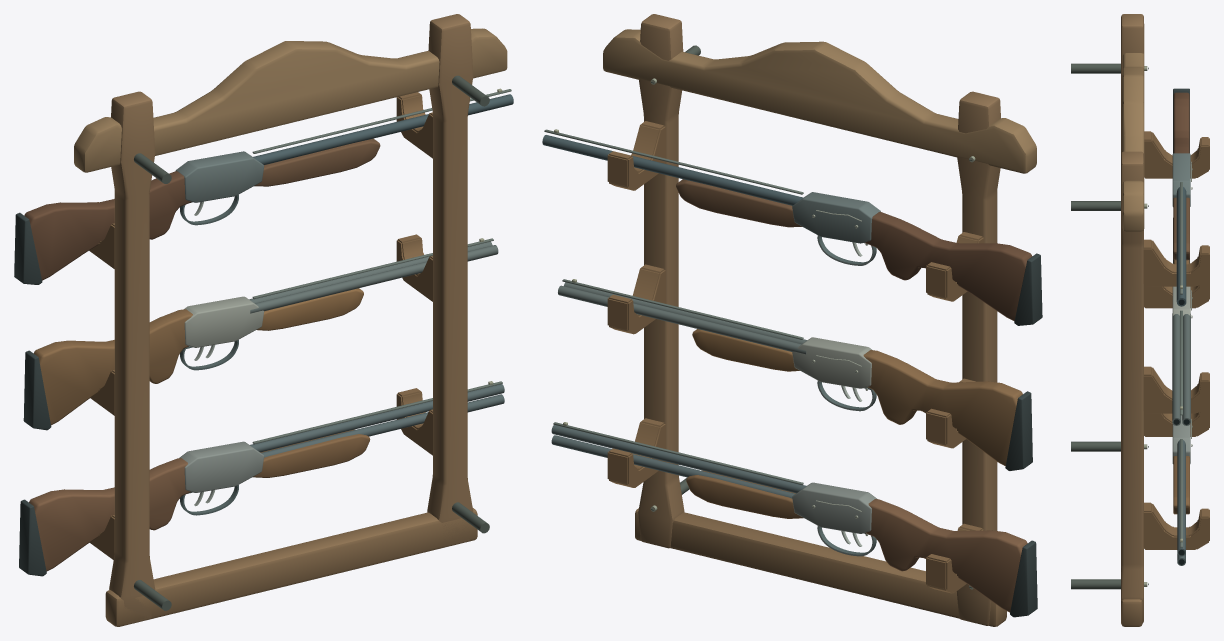
File: Ratelier_Chasse.fbx
3 renders of one model, left to right at view 1: azimuth 30°, elevation 25°; view 2: azimuth 150°, elevation 25°; view 3: azimuth 270°, elevation 25°, orthographic. The views are drawn at different scales.
Visible parts, largest first — view 1: Ratelier_Bois_Regroupe, Ratelier_Metal_Regroupe; view 2: Ratelier_Bois_Regroupe, Ratelier_Metal_Regroupe; view 3: Ratelier_Bois_Regroupe, Ratelier_Metal_Regroupe.
Boxes of the visible parts, x1=… form: Ratelier_Bois_Regroupe: x1=24, y1=14, x2=507, y2=626; Ratelier_Metal_Regroupe: x1=14, y1=75, x2=513, y2=610; Ratelier_Bois_Regroupe: x1=603, y1=14, x2=1036, y2=626; Ratelier_Metal_Regroupe: x1=542, y1=45, x2=1042, y2=617; Ratelier_Bois_Regroupe: x1=1121, y1=14, x2=1209, y2=626; Ratelier_Metal_Regroupe: x1=1071, y1=63, x2=1192, y2=589.
Bounding box in the file's own units: 121 × 125 × 33.3.
